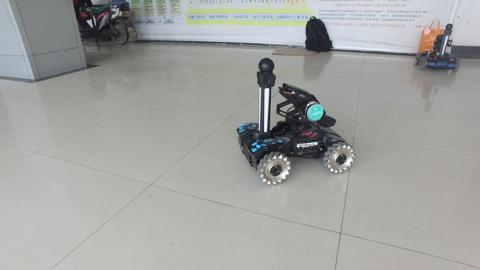bag: (302, 14, 335, 54), (416, 15, 445, 55)
chariot: (235, 56, 355, 185), (413, 22, 461, 72)
